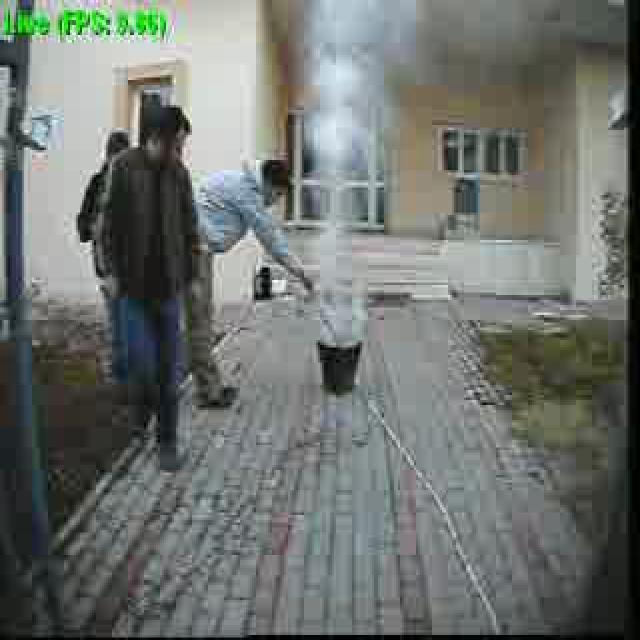Smoke: (302, 0, 384, 322)
